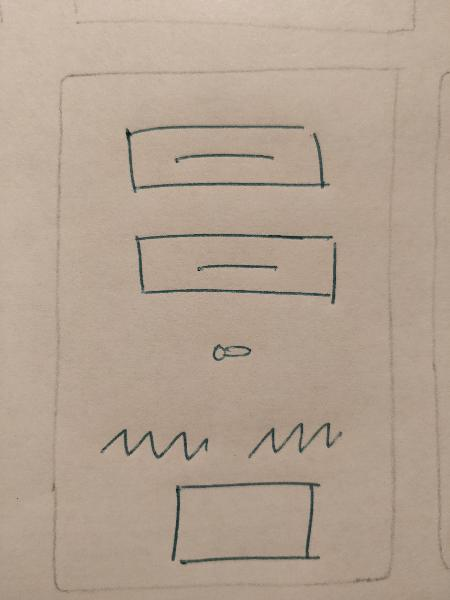button: (122, 222, 346, 307), (118, 118, 336, 198)
switch: (198, 330, 268, 365)
text: (230, 414, 357, 462), (94, 420, 214, 464)
text_input: (159, 476, 333, 571)
